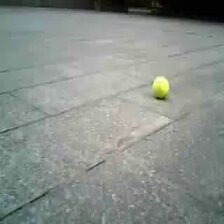tennis: (152, 77, 168, 96)
